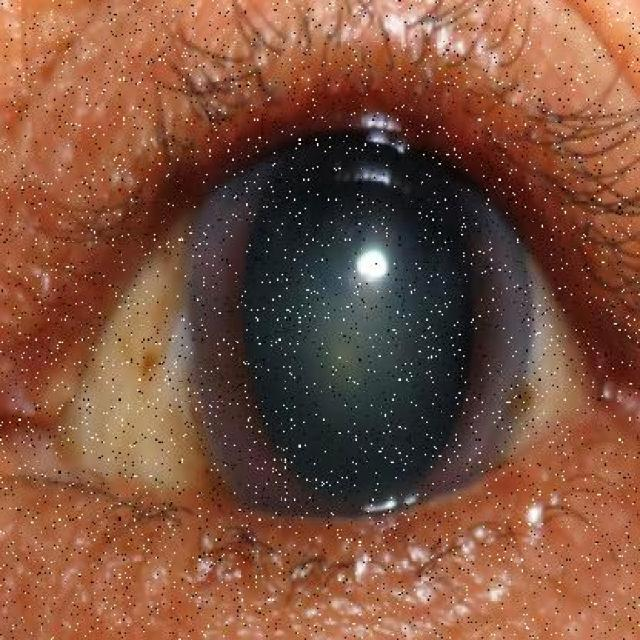Cataract: (161, 113, 574, 568)
